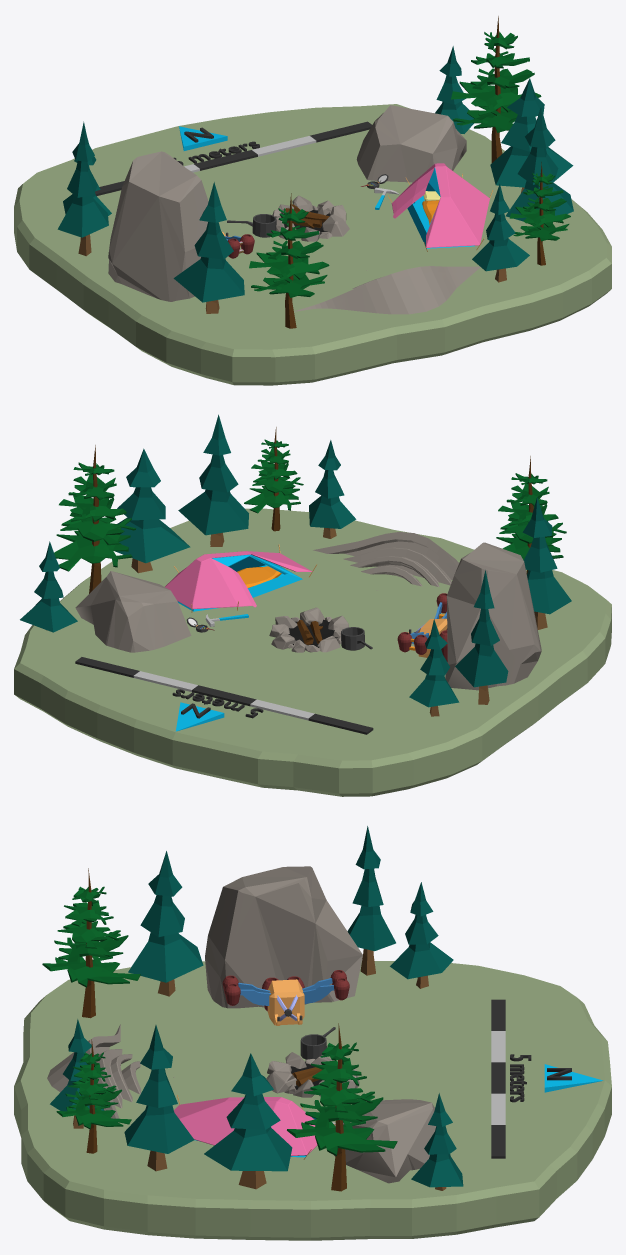
File: dummy island.fbx
3 views of the same model, one above another, from view 1: azimuth 30°, elevation 25°; view 2: azimuth 150°, elevation 25°; view 3: azimuth 270°, elevation 25° (orthographic). The views are drawn at different scales.
Visible parts, largest first — view 1: terrrian, rockEXTRA.006, rockEXTRA.003, campingTent, fold, treeFir, treeFir.002, treePine.004, treePine.002, treePine.005, treePine.001, treeFir.001 (+8 smaller); view 2: terrrian, rockEXTRA.006, rockEXTRA.003, campingTent, treeFir, fold, treePine.002, treePine.001, treePine.004, treePine.005, scale bar, treeFir.002 (+9 smaller); view 3: terrrian, rockEXTRA.006, treeFir, treePine.002, treeFir.002, rockEXTRA.003, treePine.004, treePine.001, campingTent, jetpack, treePine.005, treeFir.001 (+9 smaller).
Boxes of the visible parts, x1,y1,x2,y2 form: terrrian: [14, 104, 611, 385]; rockEXTRA.006: [108, 151, 208, 301]; rockEXTRA.003: [356, 105, 466, 182]; campingTent: [388, 163, 492, 251]; fold: [294, 266, 480, 314]; treeFir: [451, 16, 541, 162]; treeFir.002: [249, 193, 329, 328]; treePine.004: [173, 182, 244, 313]; treePine.002: [490, 78, 573, 192]; treePine.005: [57, 121, 108, 256]; treePine.001: [505, 107, 573, 221]; treeFir.001: [509, 162, 570, 265]; terrrian: [14, 508, 611, 796]; rockEXTRA.006: [445, 542, 541, 690]; rockEXTRA.003: [75, 571, 191, 652]; campingTent: [165, 544, 316, 612]; treeFir: [54, 445, 135, 593]; fold: [313, 532, 459, 590]; treePine.002: [115, 448, 190, 573]; treePine.001: [178, 414, 248, 546]; treePine.004: [522, 497, 571, 629]; treePine.005: [455, 570, 508, 704]; scale bar: [75, 657, 373, 734]; treeFir.002: [496, 456, 566, 574]; terrrian: [14, 961, 611, 1240]; rockEXTRA.006: [205, 866, 362, 1008]; treeFir: [287, 1023, 397, 1191]; treePine.002: [204, 1053, 292, 1189]; treeFir.002: [42, 868, 140, 1018]; rockEXTRA.003: [334, 1099, 436, 1183]; treePine.004: [128, 851, 203, 996]; treePine.001: [124, 1025, 194, 1171]; campingTent: [174, 1095, 335, 1159]; jetpack: [222, 970, 349, 1025]; treePine.005: [347, 826, 395, 975]; treeFir.001: [56, 1039, 131, 1153].
Bounding box in the file's own units: 805 × 308 × 806.
